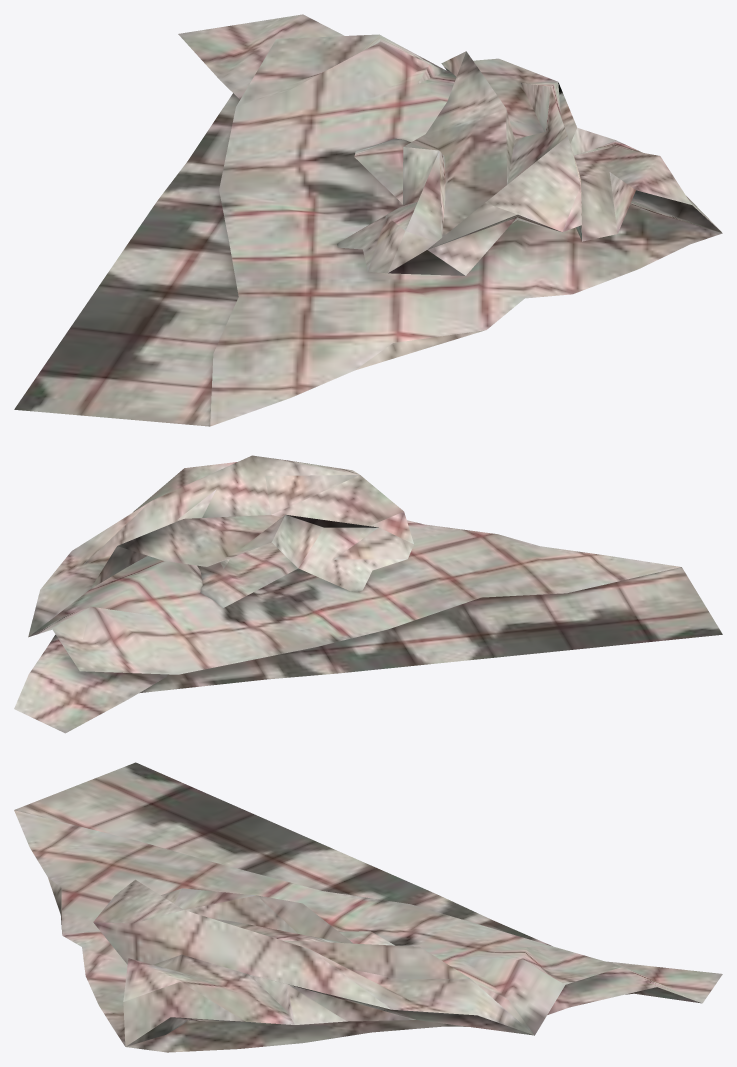
Rendered from rag_tablecloth_2_lod1_web.glb.
The picture shows the model from 3 angles, top to bottom: view 1: azimuth 30°, elevation 25°; view 2: azimuth 150°, elevation 25°; view 3: azimuth 270°, elevation 25°; orthographic projection. The views are drawn at different scales.
Visible parts, largest first — view 1: rag_tablecloth_2_Cloth; view 2: rag_tablecloth_2_Cloth; view 3: rag_tablecloth_2_Cloth.
Boxes of the visible parts, x1,y1,x2,y2 form: rag_tablecloth_2_Cloth: [14, 14, 722, 426]; rag_tablecloth_2_Cloth: [14, 455, 722, 733]; rag_tablecloth_2_Cloth: [14, 762, 722, 1052].
Bounding box in the file's own units: 0.9606 × 0.1436 × 0.9742.
Materials: 1 (1 with a texture image).
